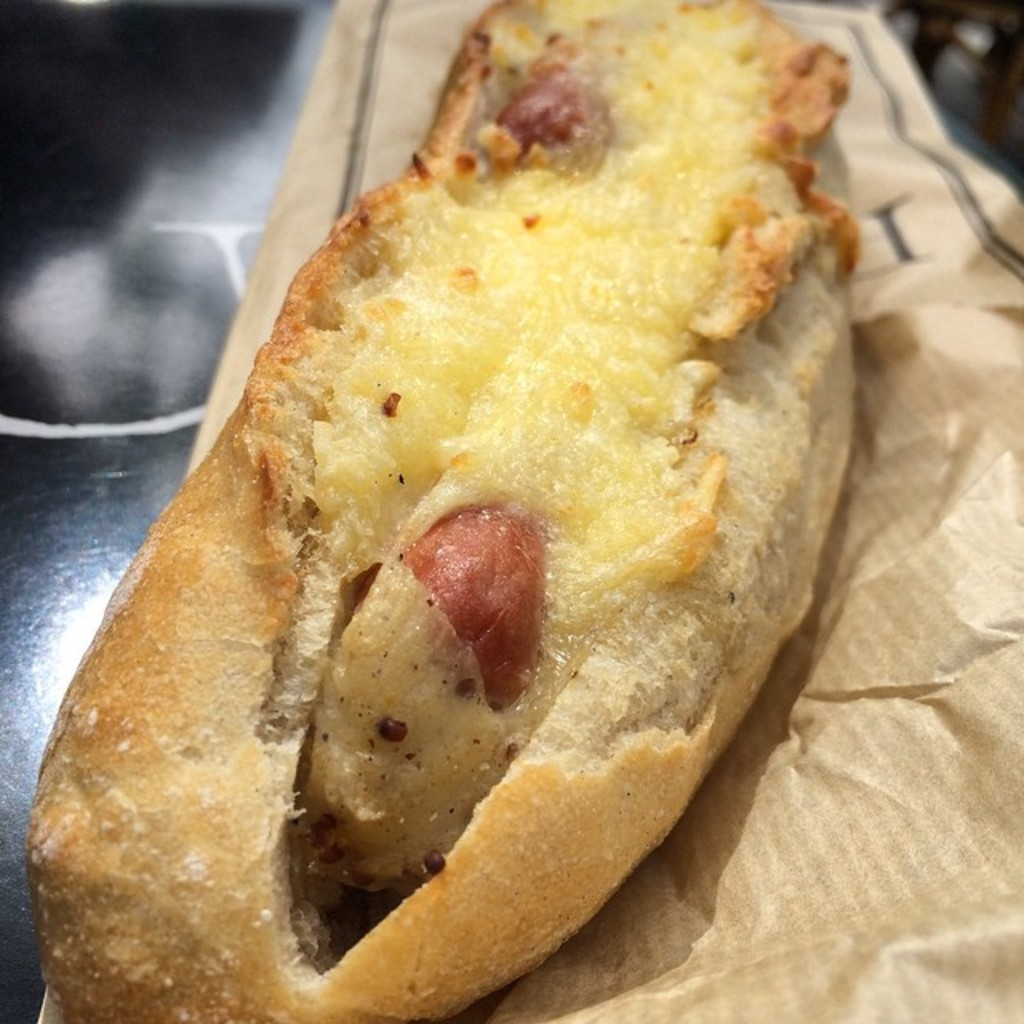hot_dog: (43, 0, 898, 1024)
